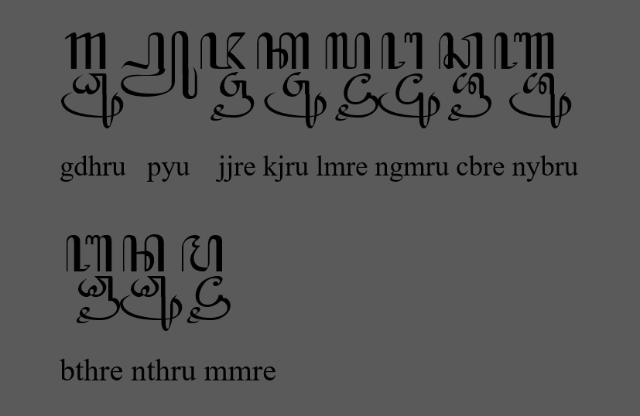_bre: (447, 71, 493, 121)
_bru: (508, 72, 572, 128)
_dhru: (60, 72, 124, 130)
_jre: (210, 70, 254, 122)
_jru: (264, 71, 328, 129)
_mre: (334, 72, 380, 122), (186, 276, 232, 324)
_mru: (378, 72, 442, 130)
_pyu: (120, 30, 200, 100)
_thre: (76, 276, 120, 324)
_thru: (120, 275, 182, 332)
b: (66, 235, 114, 274)
c: (438, 31, 484, 71)
g: (64, 32, 108, 70)
j: (200, 31, 247, 70)
k: (256, 31, 310, 70)
l: (324, 32, 372, 70)
m: (180, 235, 223, 274)
n: (122, 235, 166, 274)
nga: (381, 32, 424, 70)
ny1: (493, 32, 555, 70)
